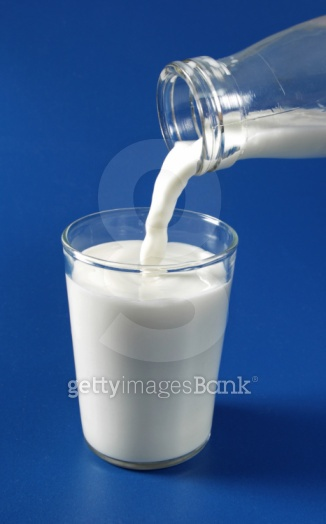glass of milk: (66, 204, 237, 469)
